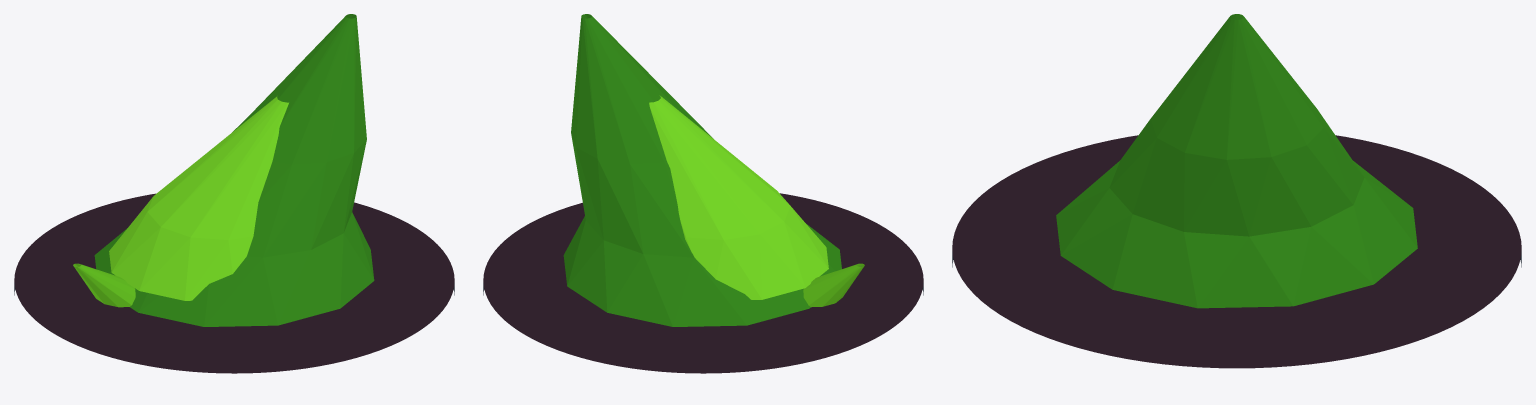
The picture shows the model from 3 angles, left to right: view 1: azimuth 30°, elevation 25°; view 2: azimuth 150°, elevation 25°; view 3: azimuth 270°, elevation 25°; orthographic projection. The views are drawn at different scales.
Size of the model in its own units: 3.2 by 2.03 by 3.2.
Materials: 6 (6 with a texture image).
